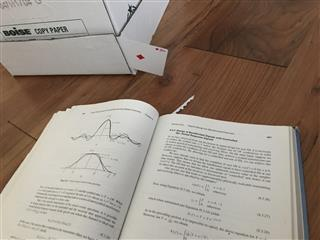AceOfDiamonds: (115, 37, 168, 76)
